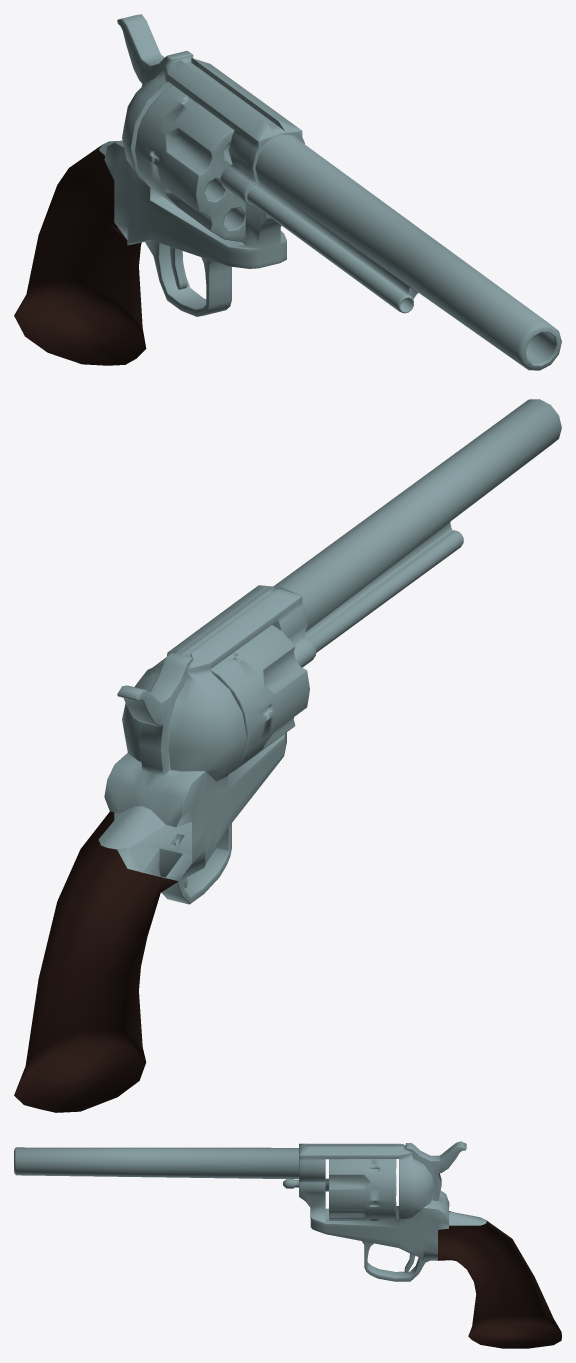
The model's file is SAA3.fbx.
3 renders of one model, top to bottom at view 1: azimuth 30°, elevation 25°; view 2: azimuth 150°, elevation 25°; view 3: azimuth 270°, elevation 25°, orthographic. The views are drawn at different scales.
Visible parts, largest first — view 1: Plane; view 2: Plane; view 3: Plane.
Boxes of the visible parts, box(x1,y1,x2,y2) form: Plane: box(14, 14, 561, 370); Plane: box(14, 399, 561, 1112); Plane: box(14, 1141, 561, 1348).
Bounding box in the file's own units: 58.78 × 170 × 439.
